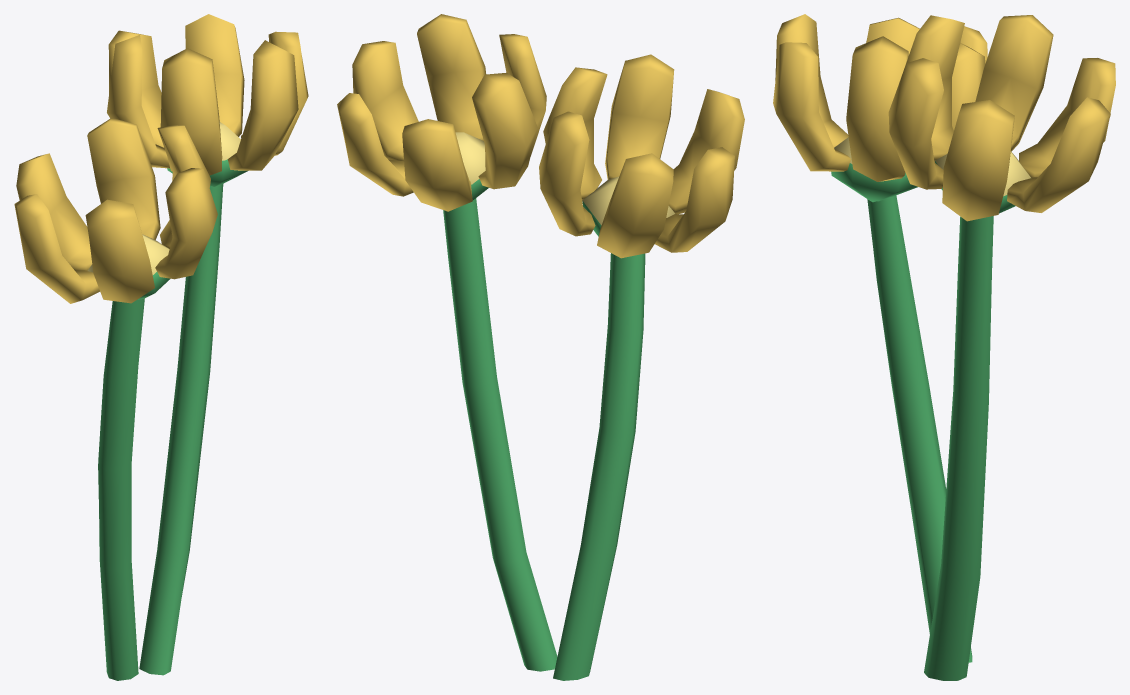
Rendered from Flower_B_02_LOD2.gltf.
The picture shows the model from 3 angles, left to right: view 1: azimuth 30°, elevation 25°; view 2: azimuth 150°, elevation 25°; view 3: azimuth 270°, elevation 25°; orthographic projection. The views are drawn at different scales.
Visible parts, largest first — view 1: Flower_B_02_LOD2_Plane.038; view 2: Flower_B_02_LOD2_Plane.038; view 3: Flower_B_02_LOD2_Plane.038.
Boxes of the visible parts, x1,y1,x2,y2 form: Flower_B_02_LOD2_Plane.038: (14,14,308,680); Flower_B_02_LOD2_Plane.038: (337,14,744,680); Flower_B_02_LOD2_Plane.038: (773,14,1115,680).
Size of the model in its own units: 3.1 by 5.56 by 2.57.
1 material, 1 textured.
